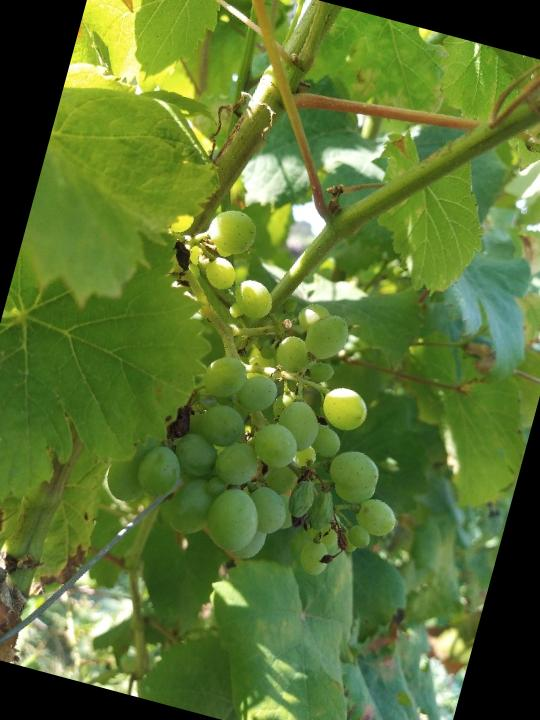grape: (92, 190, 468, 600)
